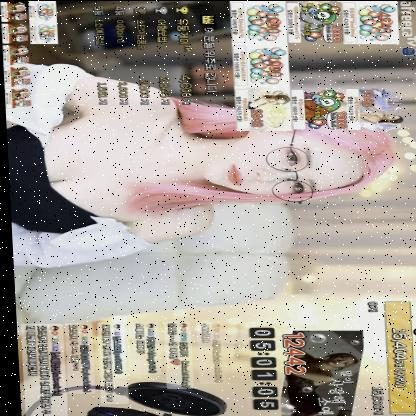donation: (273, 330, 362, 416), (231, 42, 289, 86), (234, 86, 291, 130), (341, 0, 399, 43), (230, 0, 287, 43), (345, 88, 403, 130), (289, 88, 347, 130), (286, 0, 343, 42), (29, 21, 58, 43), (0, 0, 29, 21), (28, 0, 57, 21), (1, 22, 30, 42), (4, 87, 32, 107), (3, 66, 31, 86), (2, 44, 30, 64)
streamer: (2, 60, 400, 268)
